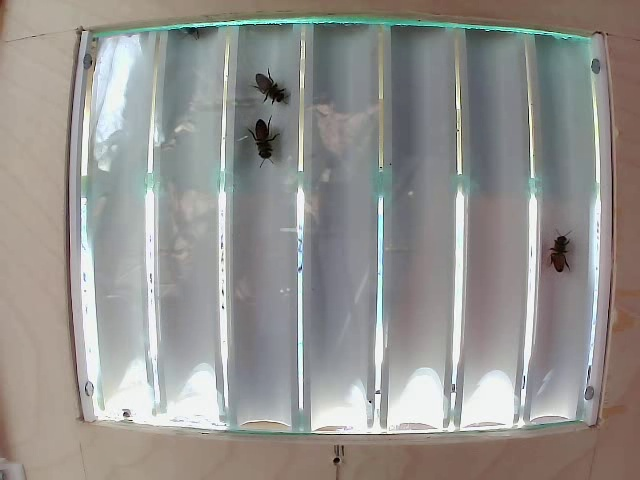bee: (245, 114, 283, 171), (255, 69, 289, 113), (546, 223, 576, 271)
